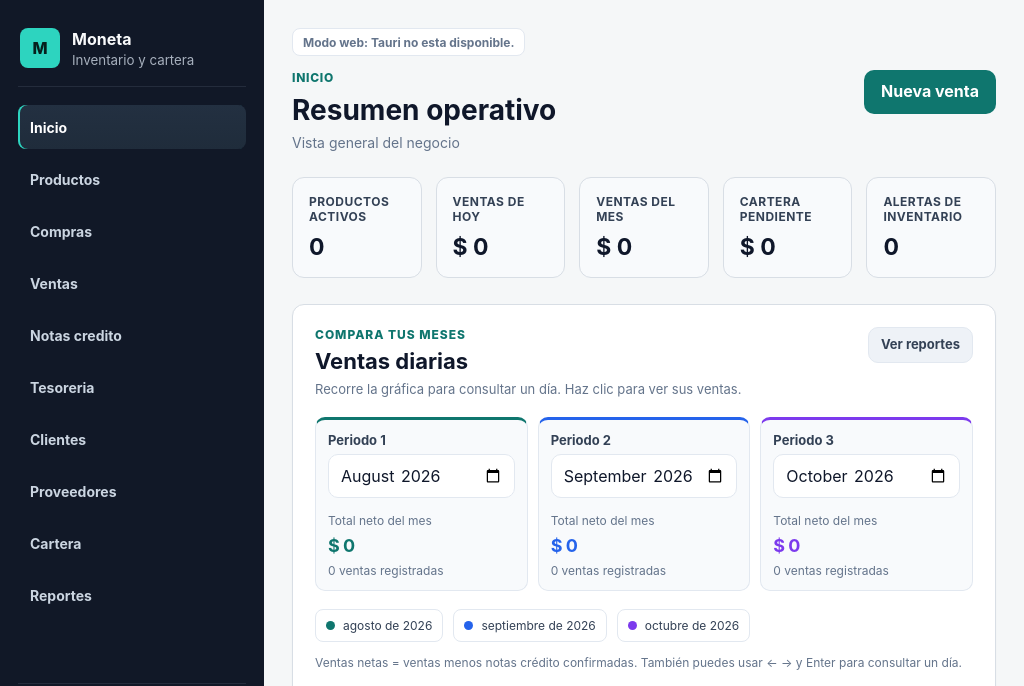
Test: App navigation › uses dashboard quick actions to open their target sections
Click the button "Nueva venta".
click(930, 92)  # box [864,70,996,114]
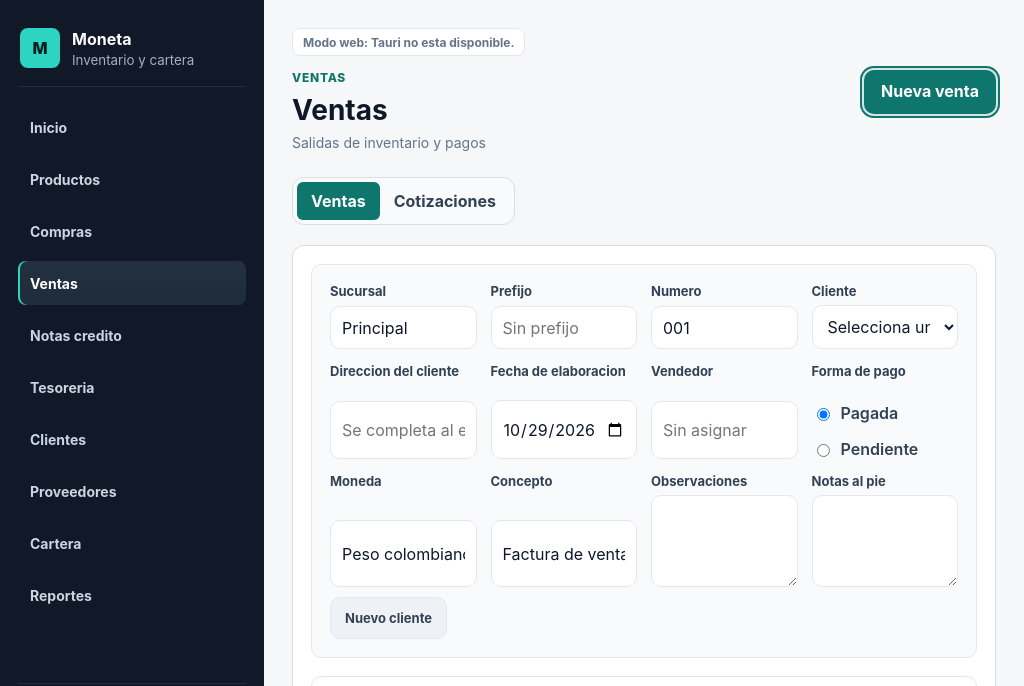
expect the heading "Ventas" is shown: met, box [292,93,388,127]
Click the button "Inicio".
click(132, 127)  # box [18,105,246,149]
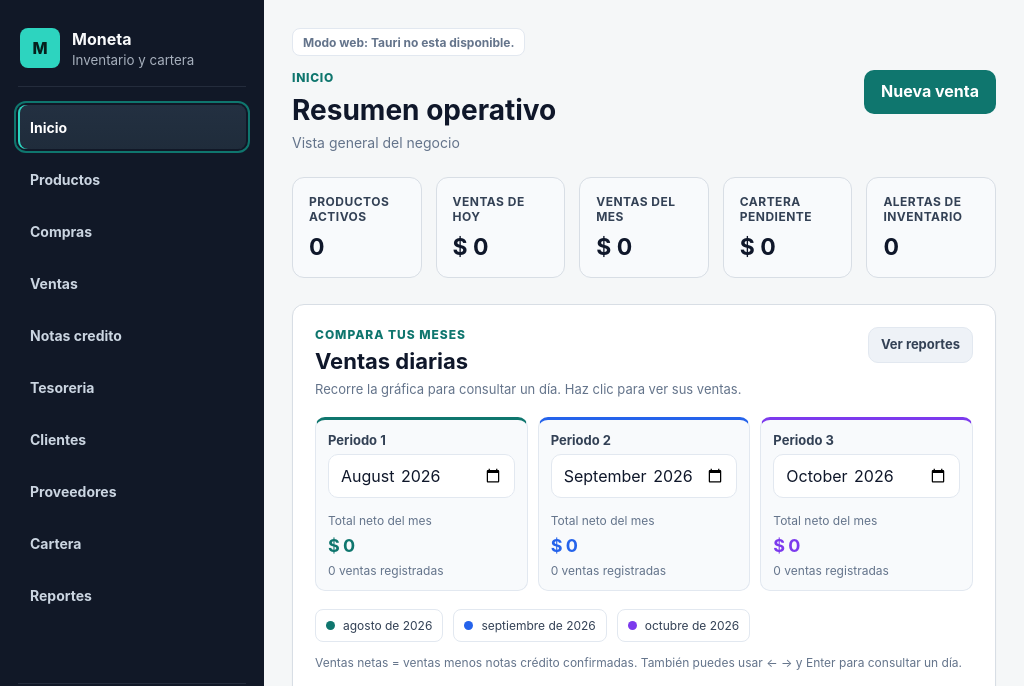
Click the button "Ver reportes".
click(920, 345)  # box [868,327,973,363]
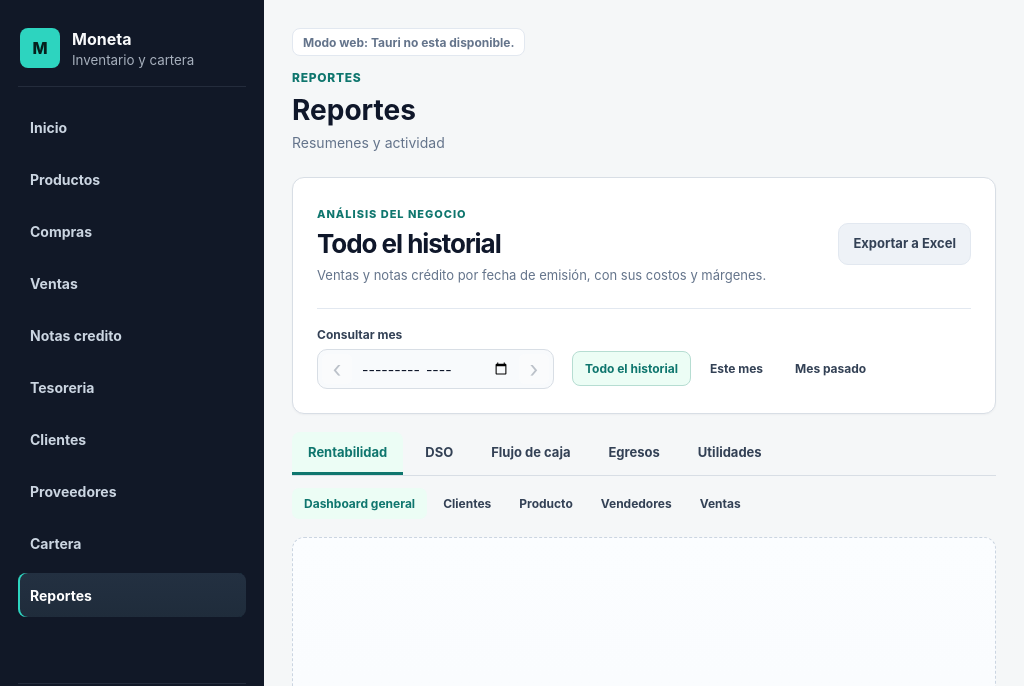
expect the heading "Reportes" is shown: met, box [292,93,416,127]
Click the button "Inicio".
click(132, 127)  # box [18,105,246,149]
(page scrolled)
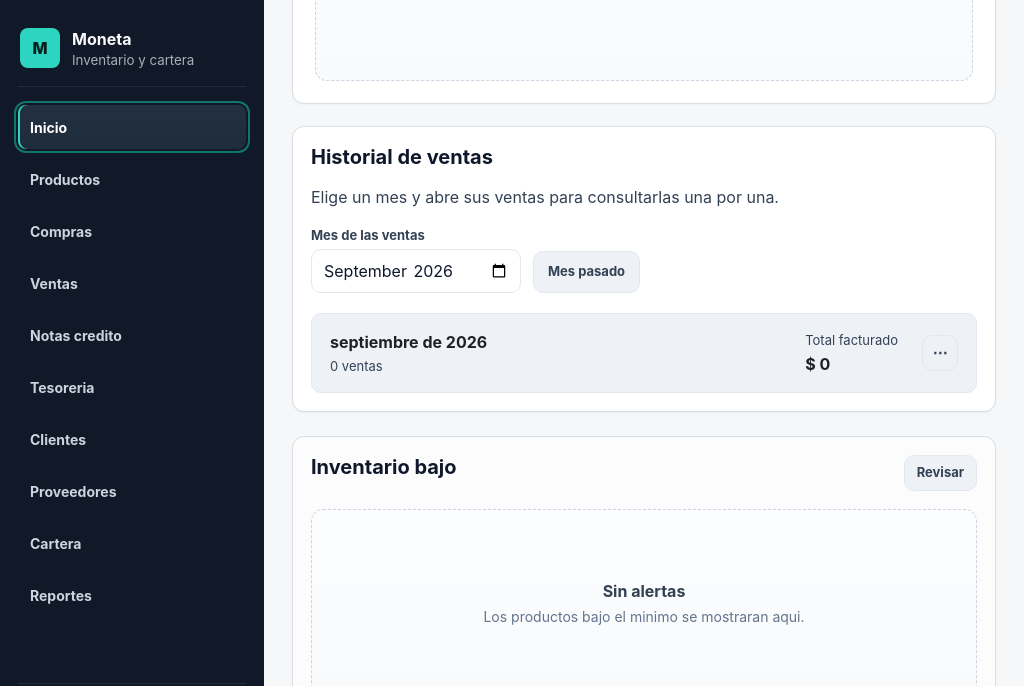
Click the button "Revisar".
click(940, 473)  # box [904,455,977,491]
(page scrolled)
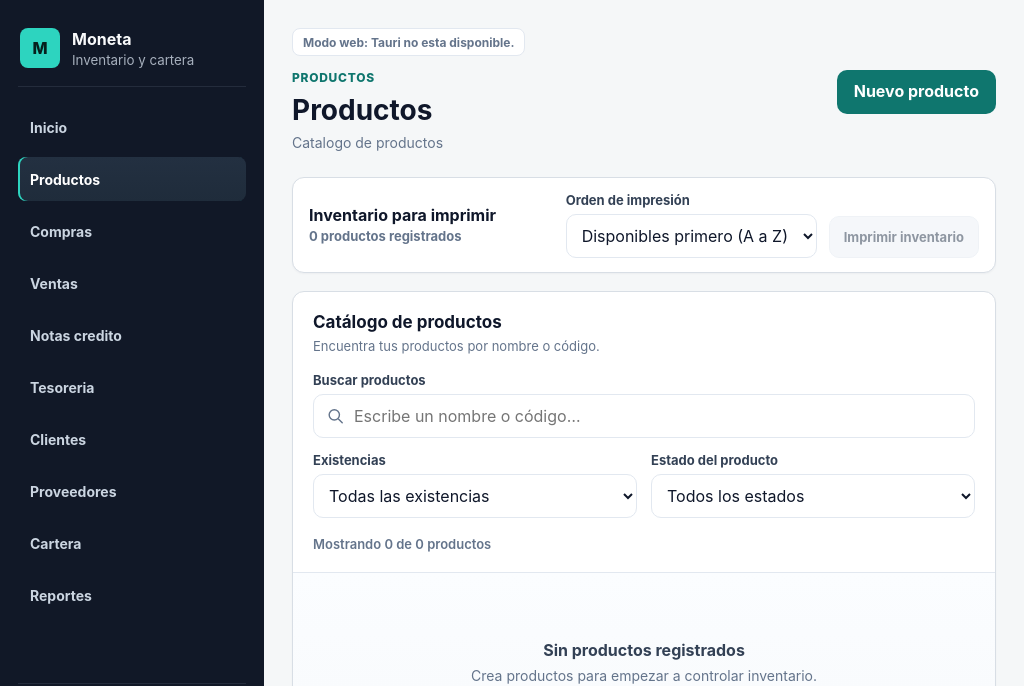
expect the heading "Productos" is shown: met, box [292,93,443,127]
